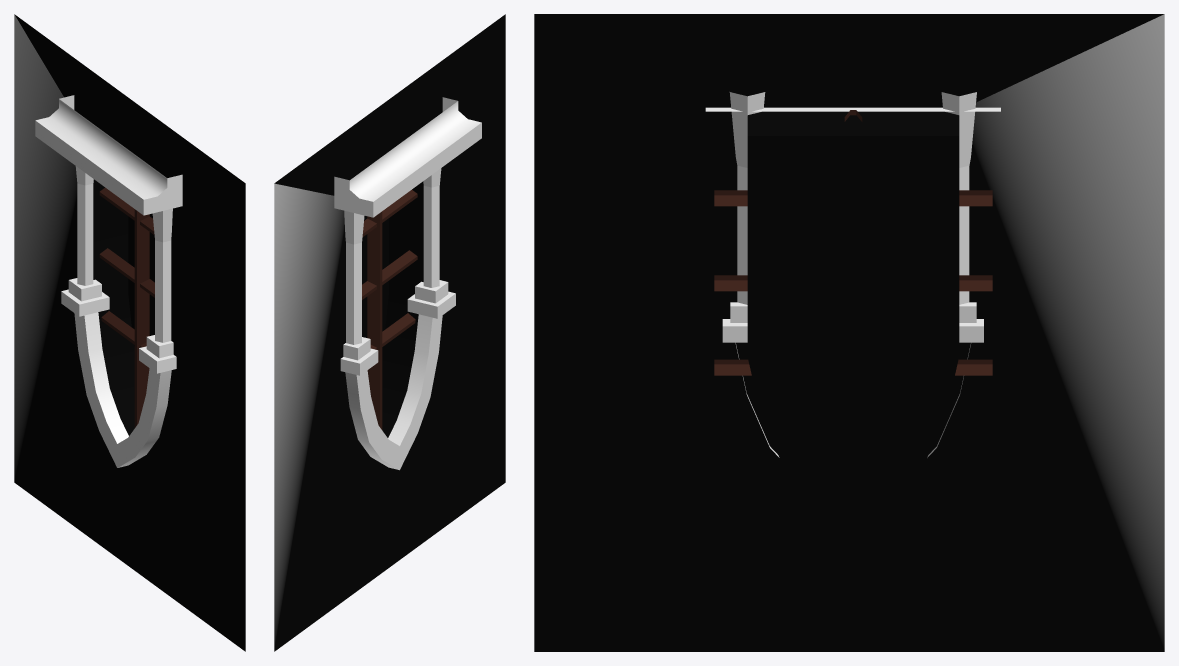
The model's file is standard_window_8.FBX.
3 renders of one model, left to right at view 1: azimuth 30°, elevation 25°; view 2: azimuth 150°, elevation 25°; view 3: azimuth 270°, elevation 25°, orthographic. The views are drawn at different scales.
Visible parts, largest first — view 1: standard_window_8; view 2: standard_window_8; view 3: standard_window_8.
Part boxes in pixels (box(x1,y1,x2,y2)): standard_window_8: box(14, 14, 245, 651); standard_window_8: box(274, 14, 505, 651); standard_window_8: box(534, 14, 1164, 651).
Bounding box in the file's own units: 66.7 × 385 × 345.
